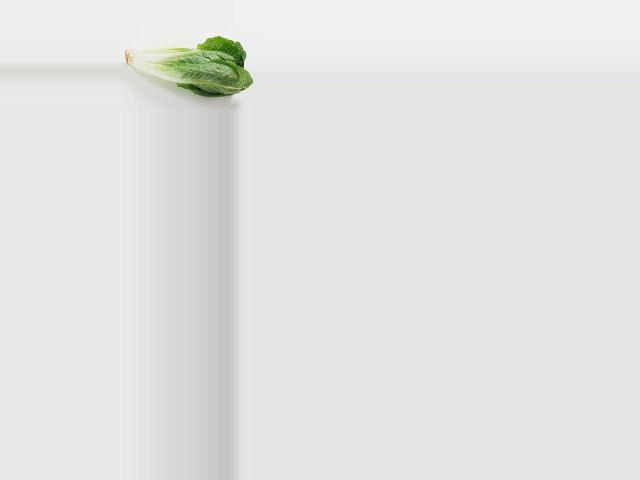lettuce: (118, 34, 253, 100)
